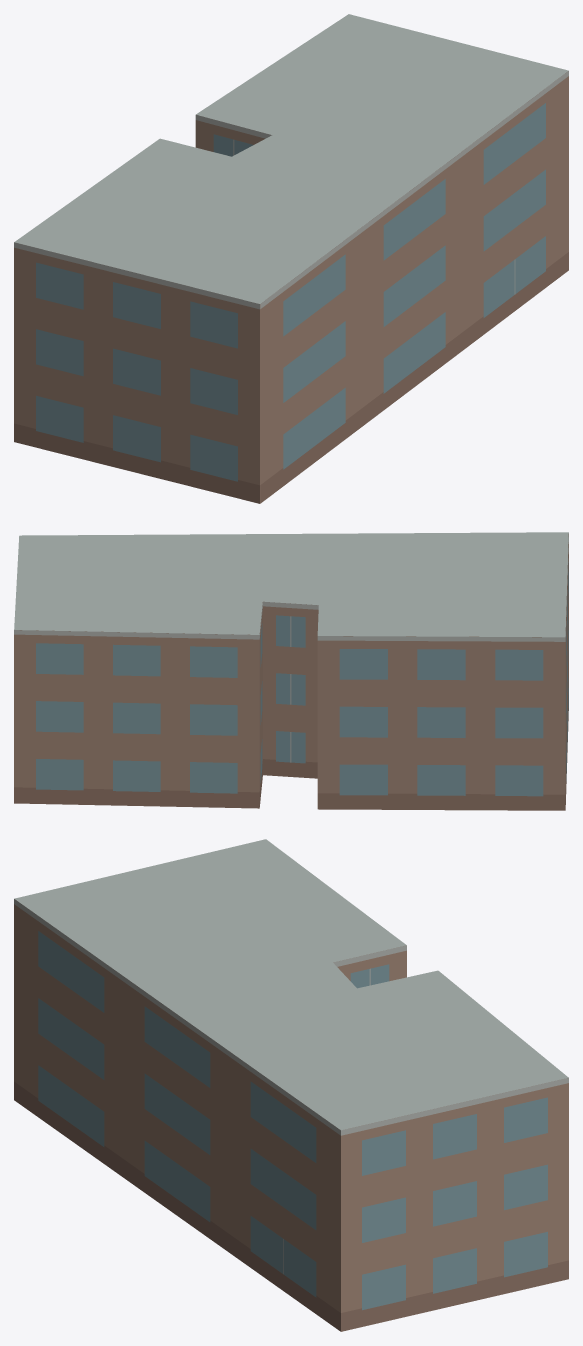
Rendered from survey-upis-32930908.glb.
3 views of the same model, one above another, from view 1: azimuth 30°, elevation 25°; view 2: azimuth 150°, elevation 25°; view 3: azimuth 270°, elevation 25° (orthographic). The views are drawn at different scales.
Visible parts, largest first — view 1: survey-upis-32930908.tmp; view 2: survey-upis-32930908.tmp; view 3: survey-upis-32930908.tmp.
Part boxes in pixels (x1,y1,x2,y2): survey-upis-32930908.tmp: [14, 14, 568, 503]; survey-upis-32930908.tmp: [14, 532, 568, 810]; survey-upis-32930908.tmp: [14, 839, 568, 1331].
Size of the model in its own units: 28.38 by 9.15 by 22.85.
